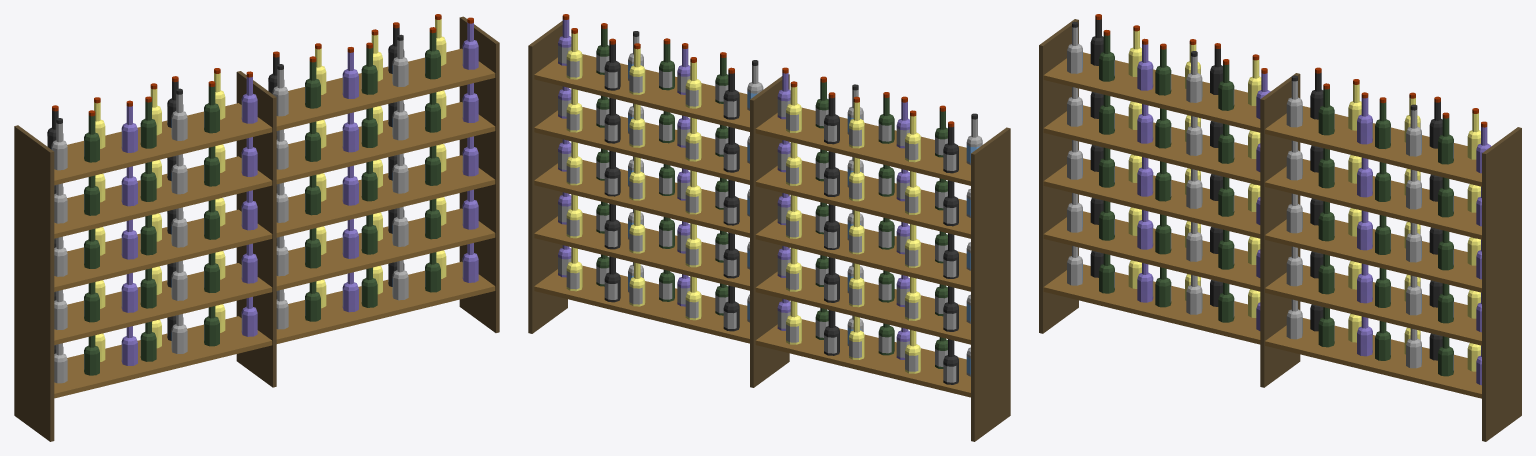
Rendered from sm_cupboard_1.FBX.
3 views of the same model, side by side, from view 1: azimuth 30°, elevation 25°; view 2: azimuth 150°, elevation 25°; view 3: azimuth 330°, elevation 25° (orthographic).
Visible parts, largest first — view 1: sm_cupboard_1; view 2: sm_cupboard_1; view 3: sm_cupboard_1.
Boxes of the visible parts, x1=… form: sm_cupboard_1: x1=14, y1=14, x2=499, y2=441; sm_cupboard_1: x1=528, y1=14, x2=1010, y2=441; sm_cupboard_1: x1=1039, y1=14, x2=1521, y2=441.
Bounding box in the file's own units: 130 × 85.08 × 18.09.
